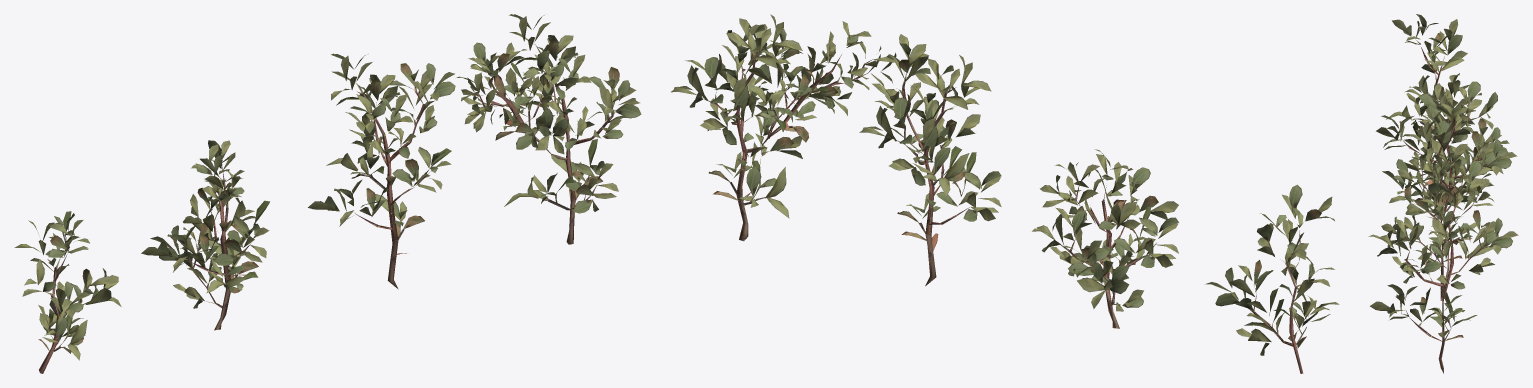
Rendered from shrub_04.glb.
3 renders of one model, left to right at view 1: azimuth 30°, elevation 25°; view 2: azimuth 150°, elevation 25°; view 3: azimuth 270°, elevation 25°, orthographic. The views are drawn at different scales.
Visible parts, largest first — view 1: shrub_04; view 2: shrub_04; view 3: shrub_04.
Boxes of the visible parts, bbox=[...] form: shrub_04: bbox=[14, 14, 641, 373]; shrub_04: bbox=[671, 14, 1339, 373]; shrub_04: bbox=[1368, 14, 1518, 373].
Size of the model in its own units: 0.5837 by 0.2185 by 0.1461.
Materials: 1 (1 with a texture image).
